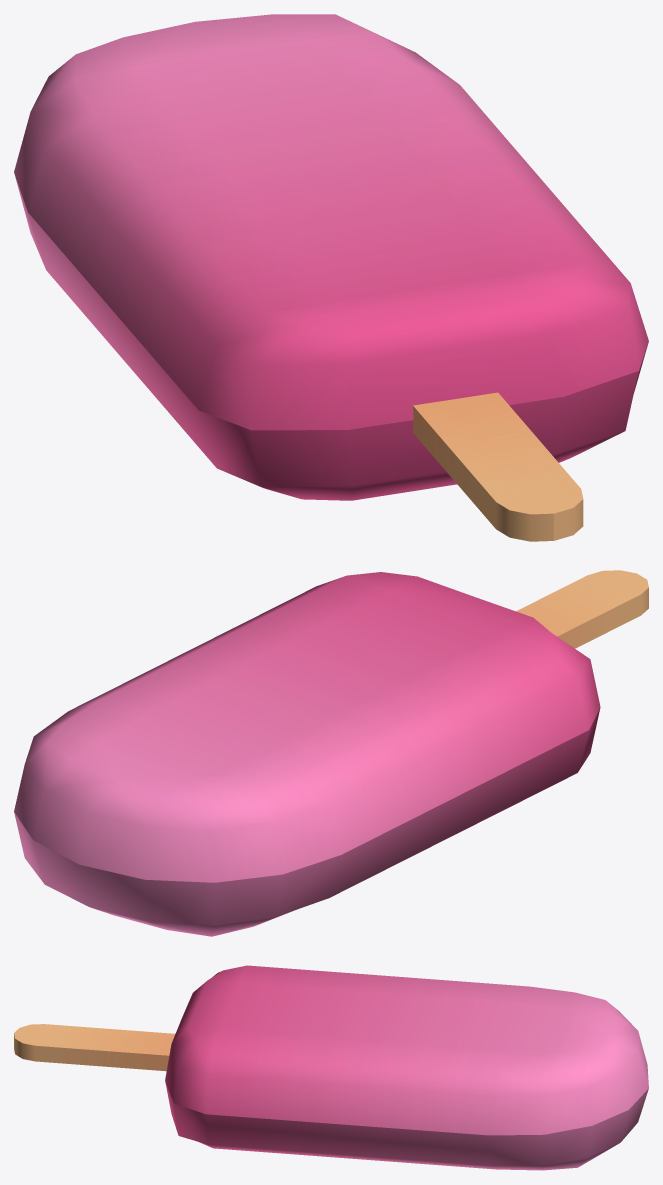
The model's file is IceCream Stick 1.fbx.
3 renders of one model, top to bottom at view 1: azimuth 30°, elevation 25°; view 2: azimuth 150°, elevation 25°; view 3: azimuth 270°, elevation 25°, orthographic. The views are drawn at different scales.
Visible parts, largest first — view 1: IceCreamStick_1; view 2: IceCreamStick_1; view 3: IceCreamStick_1.
Boxes of the visible parts, x1=… form: IceCreamStick_1: x1=14, y1=14, x2=648, y2=541; IceCreamStick_1: x1=14, y1=570, x2=648, y2=936; IceCreamStick_1: x1=14, y1=965, x2=648, y2=1170.
Bounding box in the file's own units: 27.81 × 9.75 × 54.91.
Materials: 1 (1 with a texture image).
